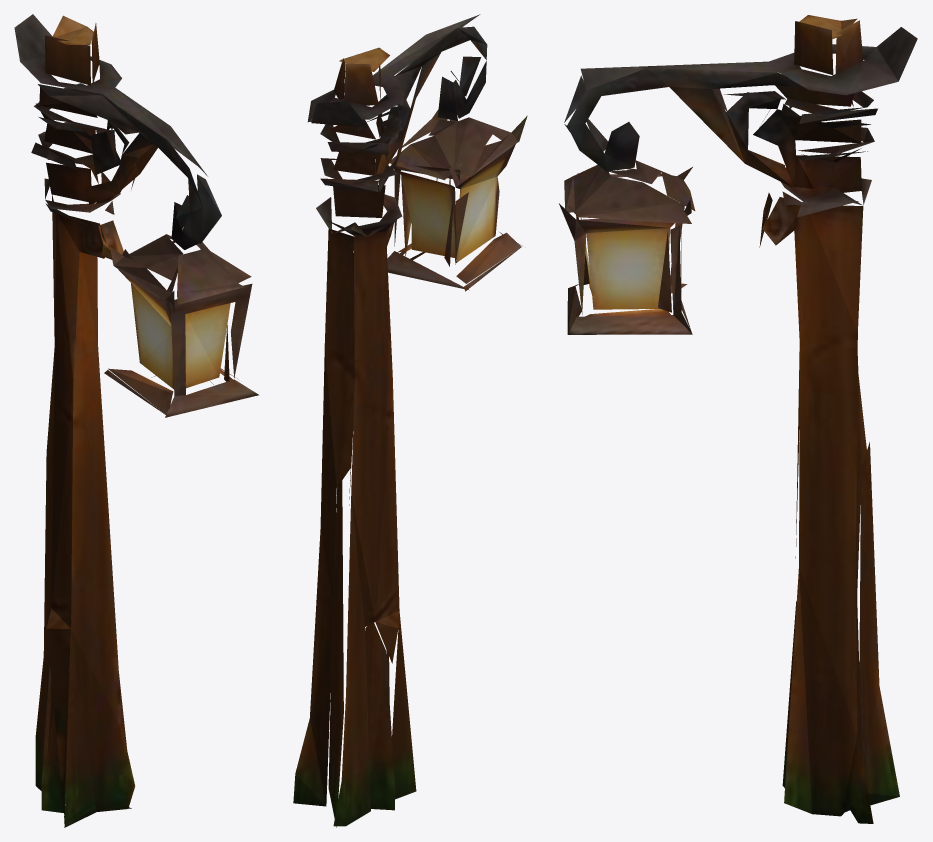
File: kit_lampione.glb
3 views of the same model, side by side, from view 1: azimuth 30°, elevation 25°; view 2: azimuth 150°, elevation 25°; view 3: azimuth 270°, elevation 25° (orthographic). The views are drawn at different scales.
Parts seen in each view (by area): view 1: _leggero; view 2: _leggero; view 3: _leggero.
Part boxes in pixels (x1,y1,x2,y2): _leggero: (14, 14, 258, 827); _leggero: (293, 14, 527, 827); _leggero: (559, 15, 917, 823).
Bounding box in the file's own units: 0.3075 × 2.4 × 1.
1 material, 1 textured.
